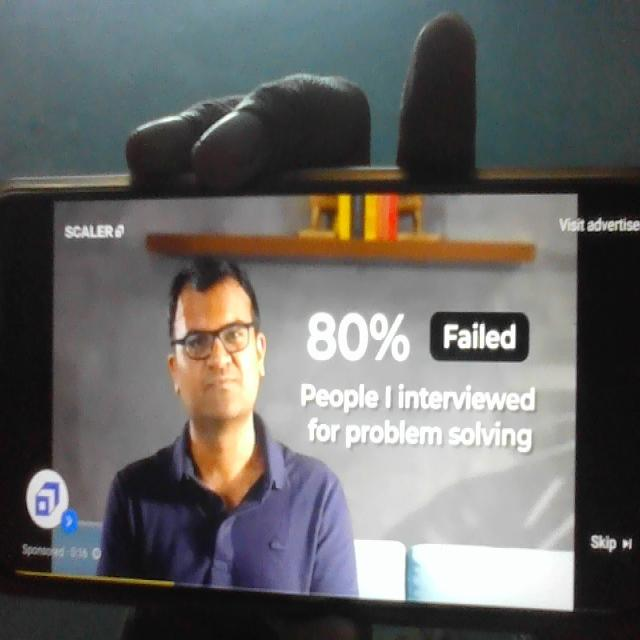fake: (164, 240, 275, 451)
